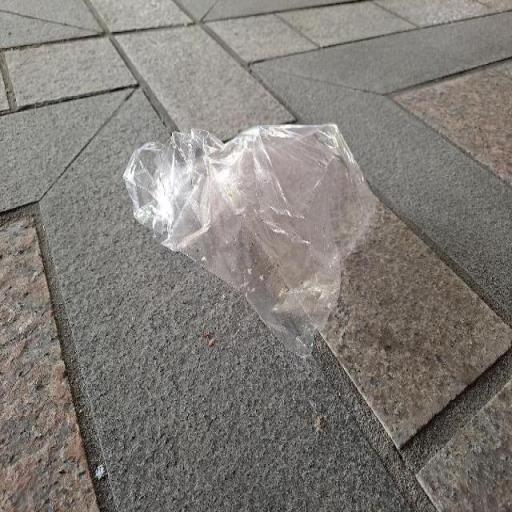plastic-bag: (123, 118, 376, 362)
